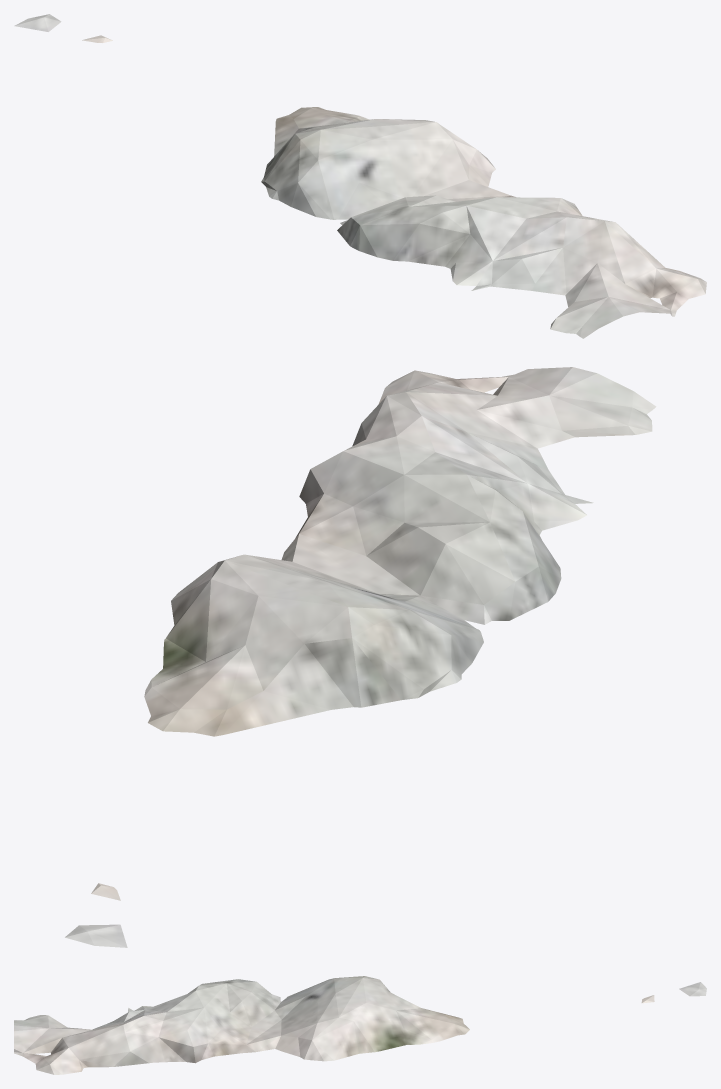
The picture shows the model from 3 angles, top to bottom: view 1: azimuth 30°, elevation 25°; view 2: azimuth 150°, elevation 25°; view 3: azimuth 270°, elevation 25°; orthographic projection. The views are drawn at different scales.
Bounding box in the file's own units: 0.9207 × 0.1496 × 2.9.
Materials: 1 (1 with a texture image).
